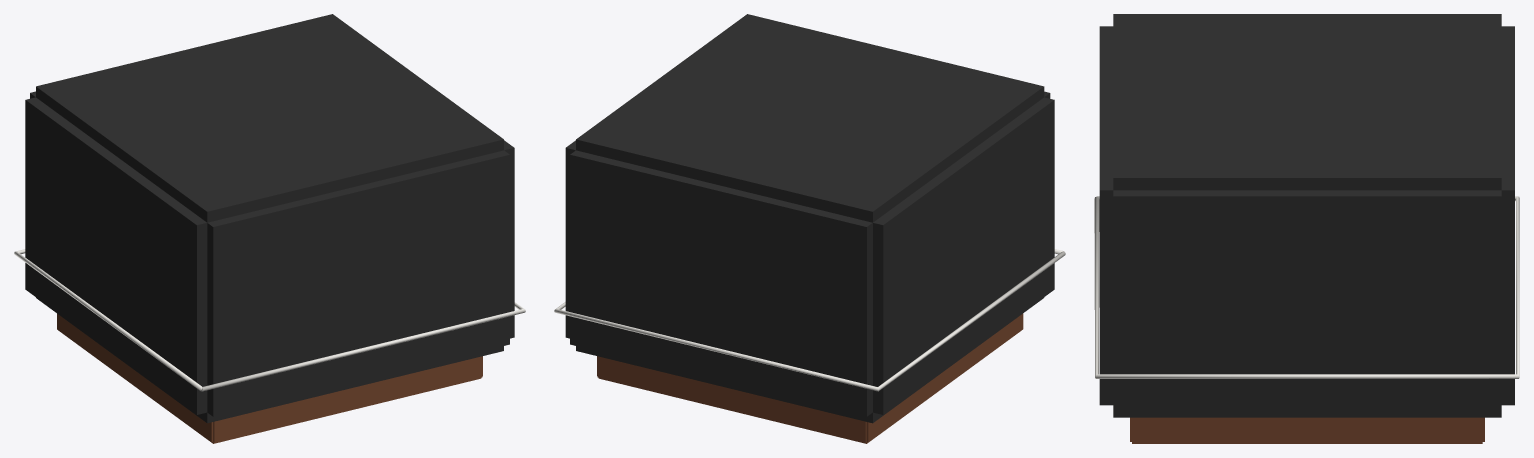
The picture shows the model from 3 angles, left to right: view 1: azimuth 30°, elevation 25°; view 2: azimuth 150°, elevation 25°; view 3: azimuth 270°, elevation 25°; orthographic projection. The views are drawn at different scales.
Parts seen in each view (by area): view 1: astral-ottoman; view 2: astral-ottoman; view 3: astral-ottoman.
Boxes of the visible parts, box(x1,y1,x2,y2) form: astral-ottoman: box(14, 14, 525, 443); astral-ottoman: box(554, 14, 1065, 443); astral-ottoman: box(1094, 14, 1519, 443).
Size of the model in its own units: 0.563 by 0.4 by 0.563.
